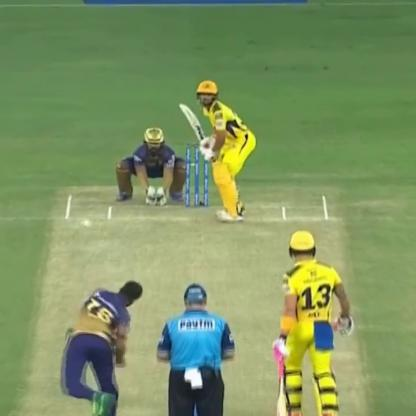ball: (80, 214, 95, 232)
bat: (170, 92, 218, 160)
pitch: (21, 180, 366, 416)
